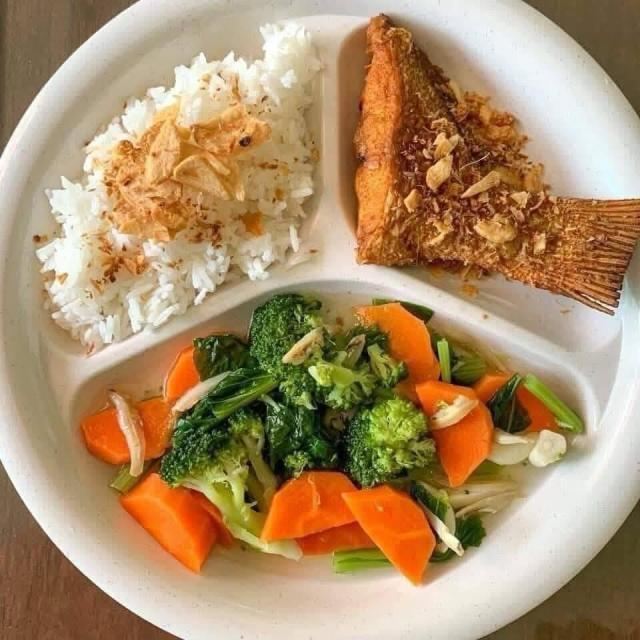Fish: (357, 12, 639, 311)
Plate: (0, 0, 639, 639)
Rice: (37, 26, 316, 348)
Vegetables: (77, 297, 591, 585)
